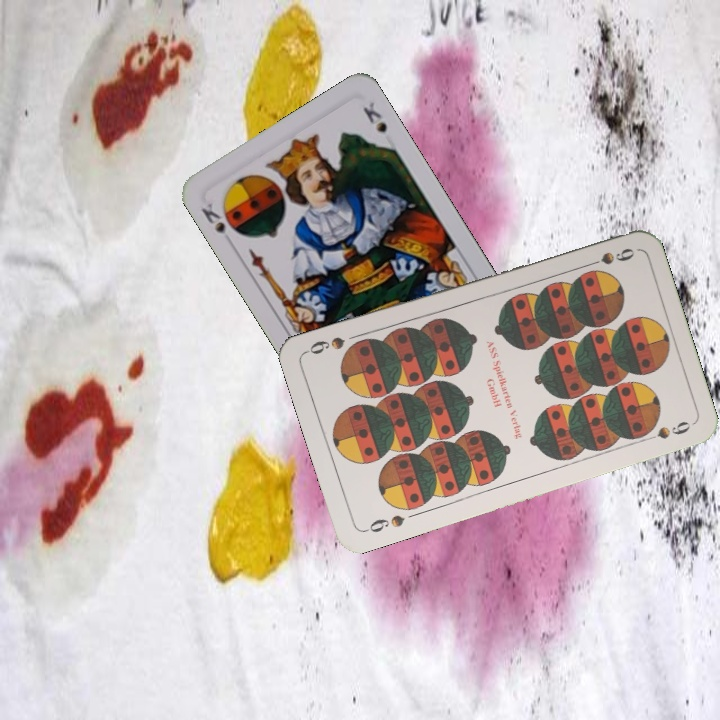S9: (579, 244, 637, 271), (360, 510, 408, 535)
SK: (197, 199, 237, 249)
